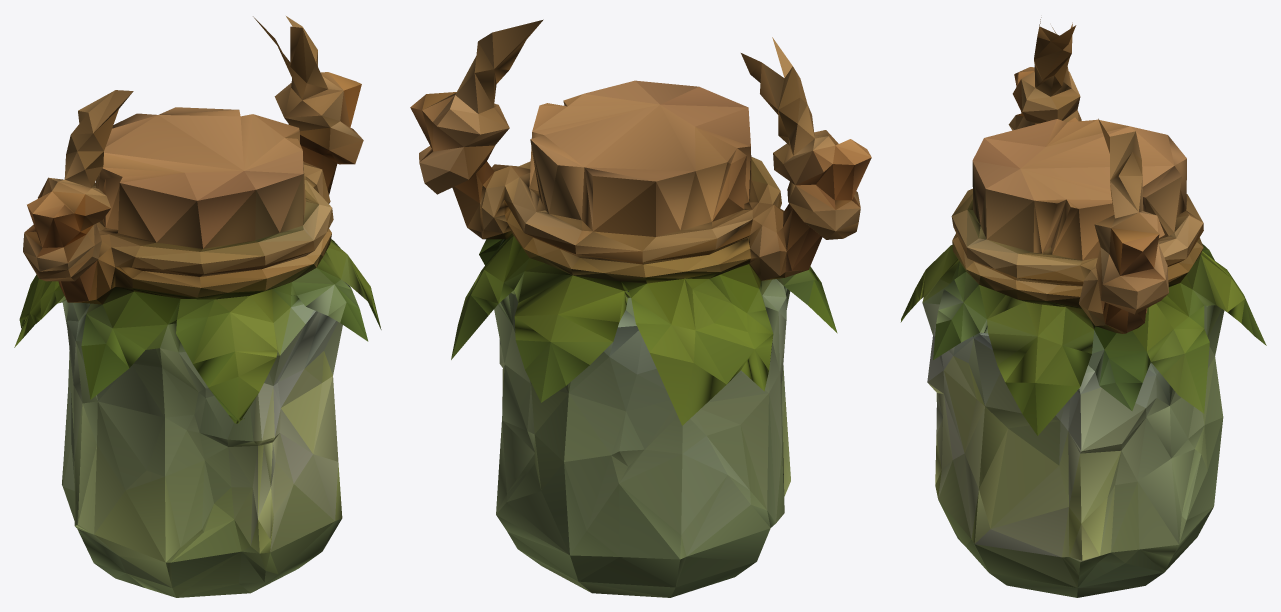
File: building-fireflyJar.glb
The picture shows the model from 3 angles, left to right: view 1: azimuth 30°, elevation 25°; view 2: azimuth 150°, elevation 25°; view 3: azimuth 270°, elevation 25°; orthographic projection. The views are drawn at different scales.
Visible parts, largest first — view 1: 0_fireflyJar; view 2: 0_fireflyJar; view 3: 0_fireflyJar.
Boxes of the visible parts, bbox=[...] form: 0_fireflyJar: bbox=[14, 16, 381, 597]; 0_fireflyJar: bbox=[410, 19, 871, 597]; 0_fireflyJar: bbox=[900, 17, 1266, 597].
Size of the model in its own units: 0.3138 by 0.4 by 0.2678.
